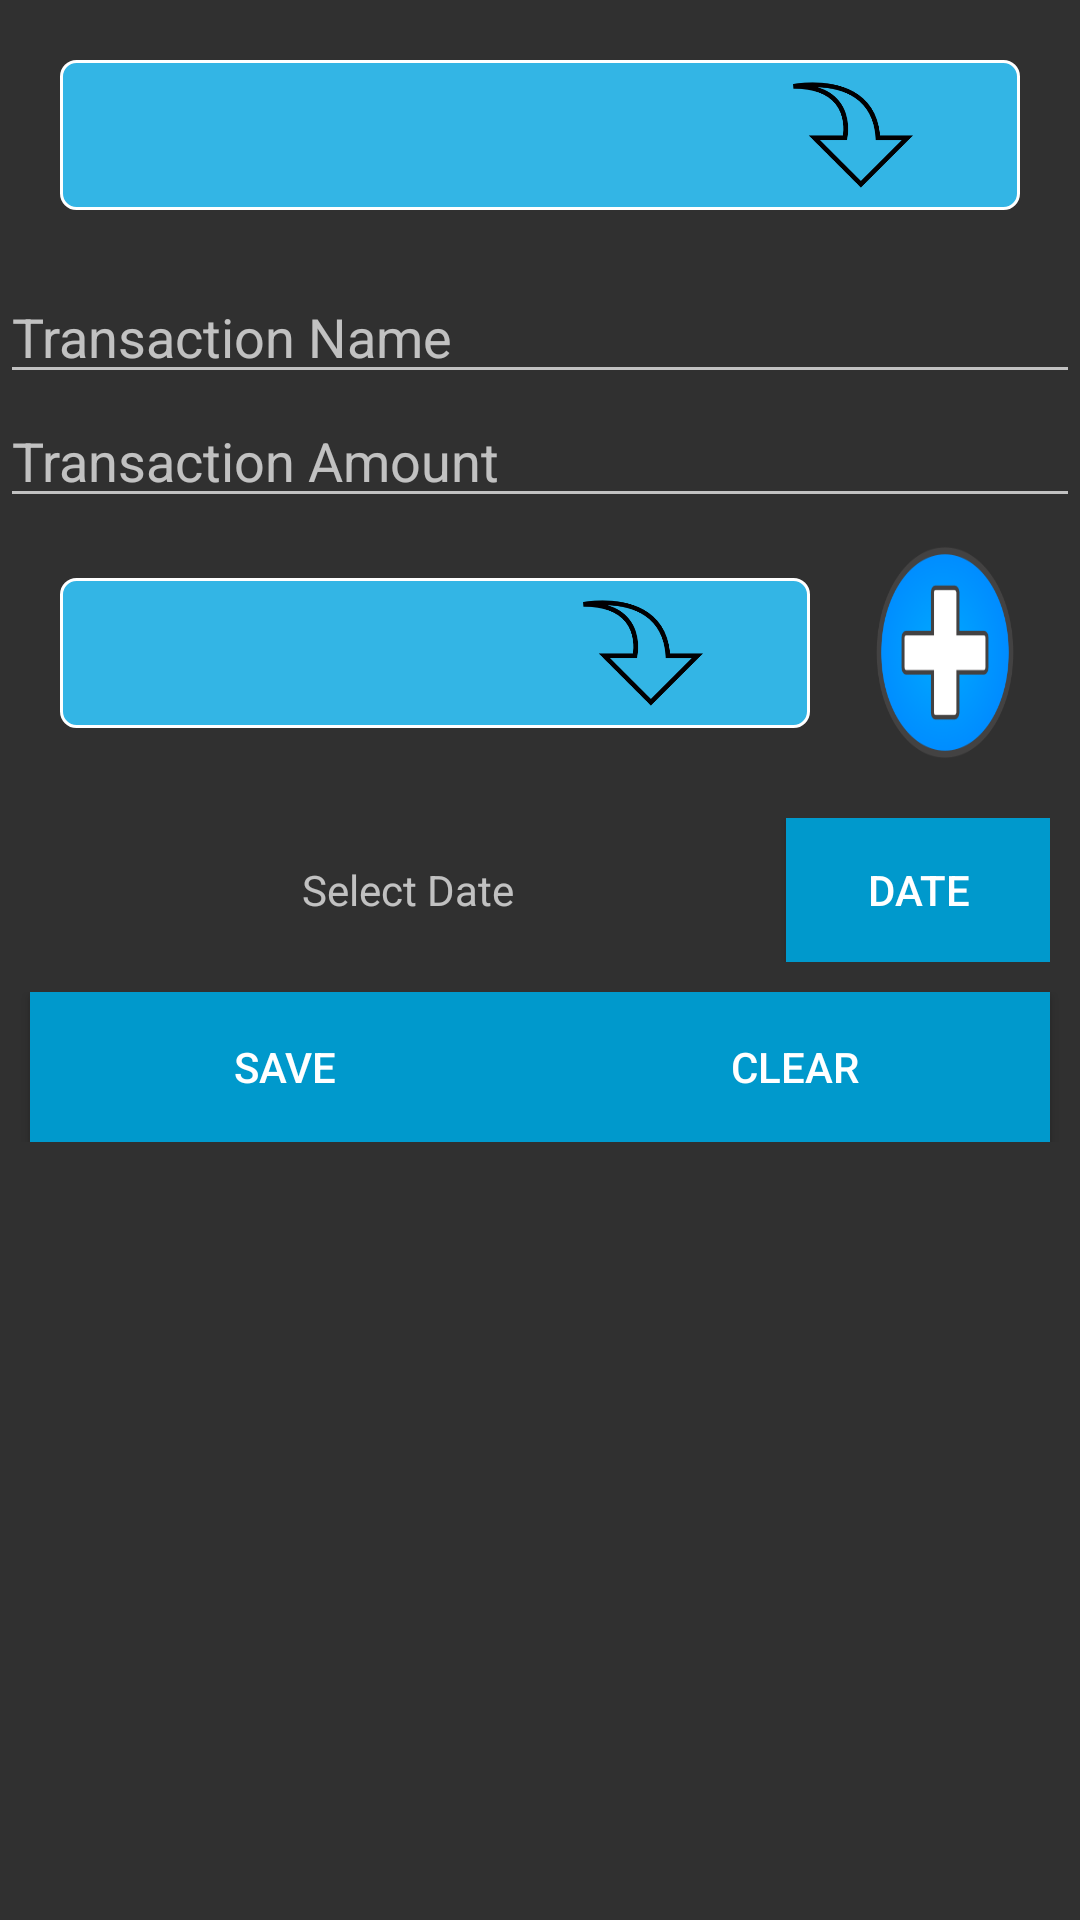

Icons on this 1080 × 1920 Android screen, each with the point to tap as [x,y]:
plusbutton: [945,652]
